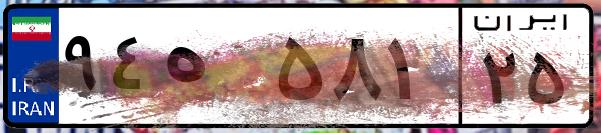1: (385, 28, 445, 110)
2: (475, 38, 525, 113)
4: (110, 28, 158, 98)
5: (270, 28, 330, 110), (525, 38, 570, 115)
8: (330, 28, 385, 110)
9: (57, 26, 110, 100)
ه: (158, 20, 270, 120)
